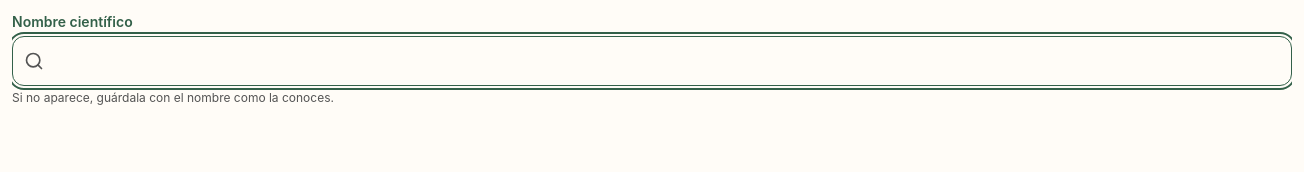
Scenario: Autocomplete › elige con clic sin quitar el foco del campo
In the dropdown labelled "Nombre científico": (652, 61) top-left (12, 36), bottom-right (1292, 86), type "catt"
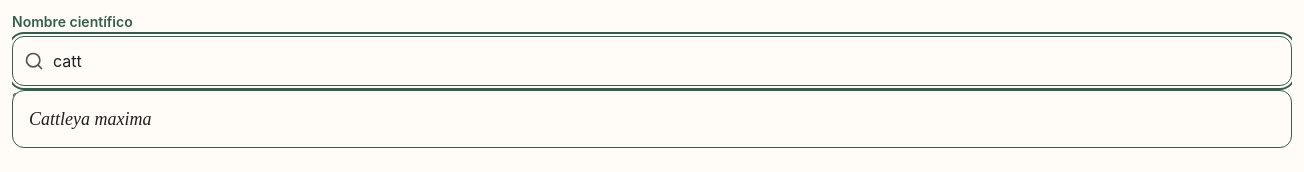
Press the mouse on the option "Cattleya maxima": (90, 119) top-left (29, 109), bottom-right (152, 129)
Click the option "Cattleya maxima": (90, 119) top-left (29, 109), bottom-right (152, 129)
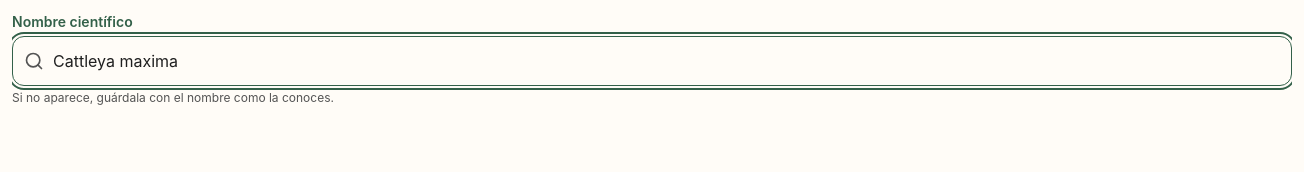
Expected: the dropdown labelled "Nombre científico" holds "Cattleya maxima", top-left (12, 36), bottom-right (1292, 86)
